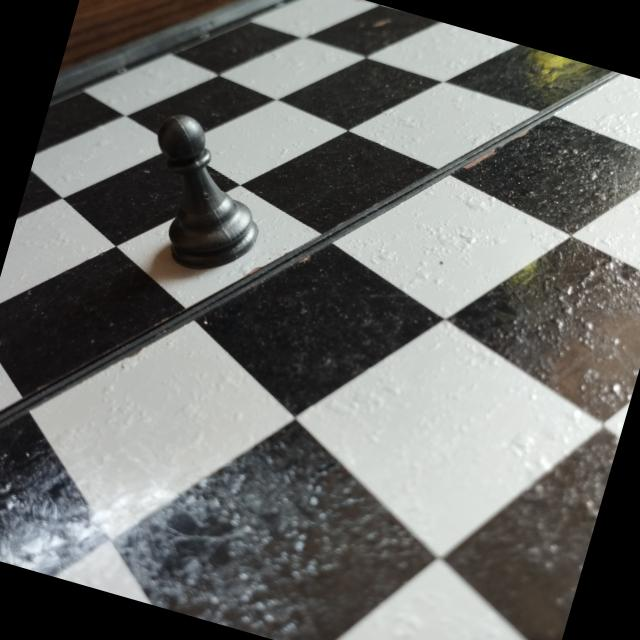Black Pawn: (120, 104, 288, 292)
